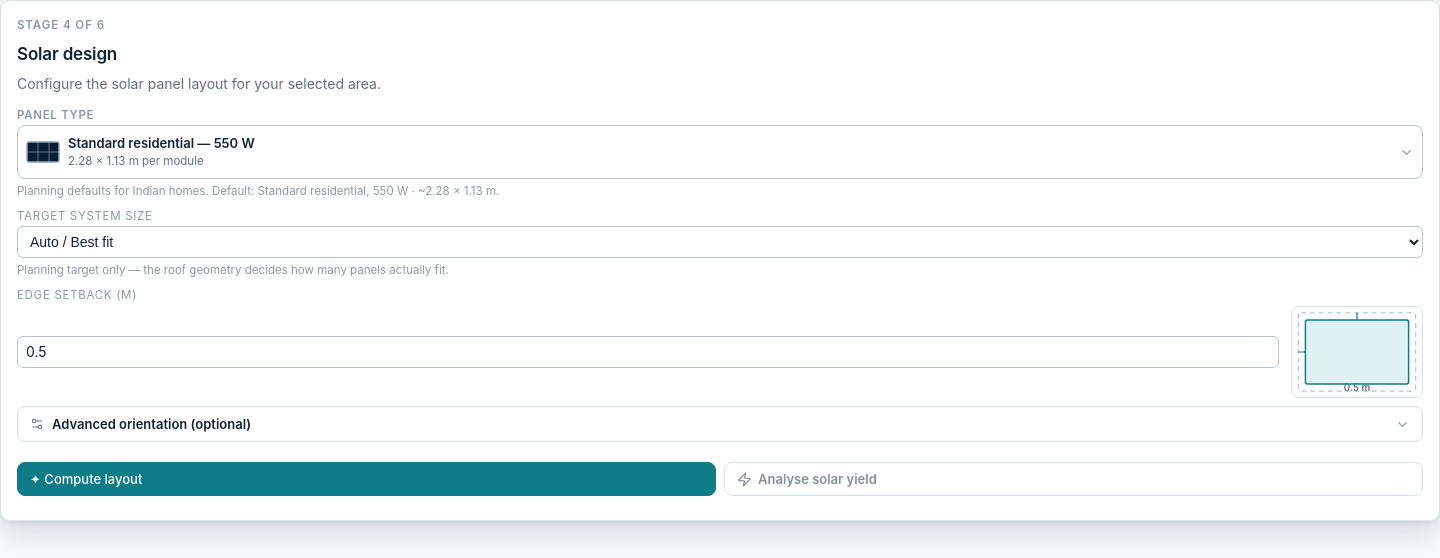
Test case: DesignPanel solar design › updates the setback diagram from the setback input
Expected: the picture named "0.5 m roof setback" is shown, [1291,306,1423,398]
Replace the text in the number field labelled "Edge setback (m)" with "1" at (648, 352), box [17,336,1279,368]
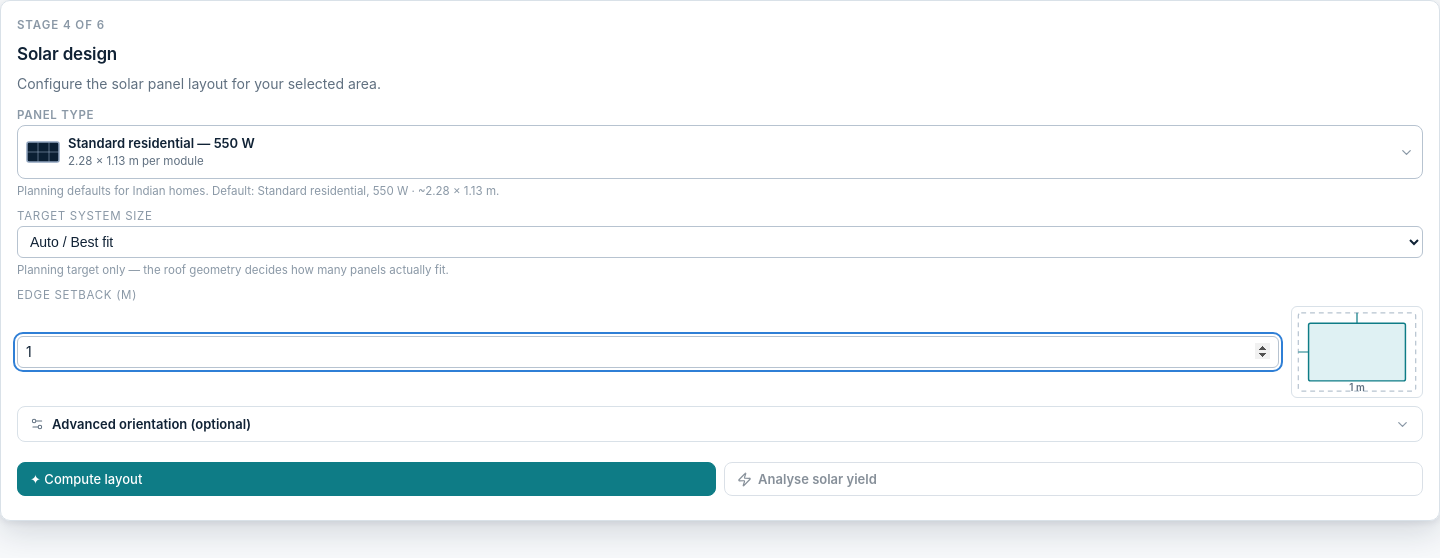
Expected: the picture named "1 m roof setback" is shown, [1291,306,1423,398]
